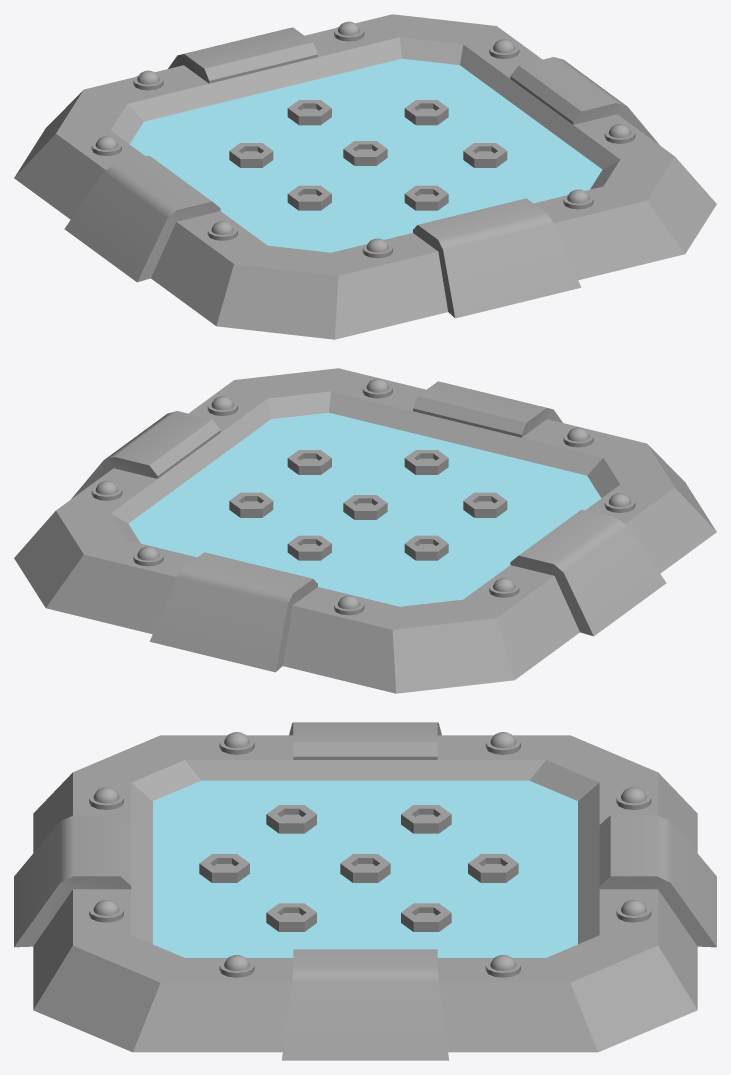
The model's file is SM_Teleporter.fbx.
The picture shows the model from 3 angles, top to bottom: view 1: azimuth 30°, elevation 25°; view 2: azimuth 150°, elevation 25°; view 3: azimuth 270°, elevation 25°; orthographic projection. The views are drawn at different scales.
Visible parts, largest first — view 1: SM_Teleporter; view 2: SM_Teleporter; view 3: SM_Teleporter.
Boxes of the visible parts, x1=… form: SM_Teleporter: x1=14, y1=14, x2=716, y2=339; SM_Teleporter: x1=14, y1=368, x2=716, y2=693; SM_Teleporter: x1=14, y1=722, x2=716, y2=1060.
Size of the model in its own units: 240 by 25.3 by 240.
